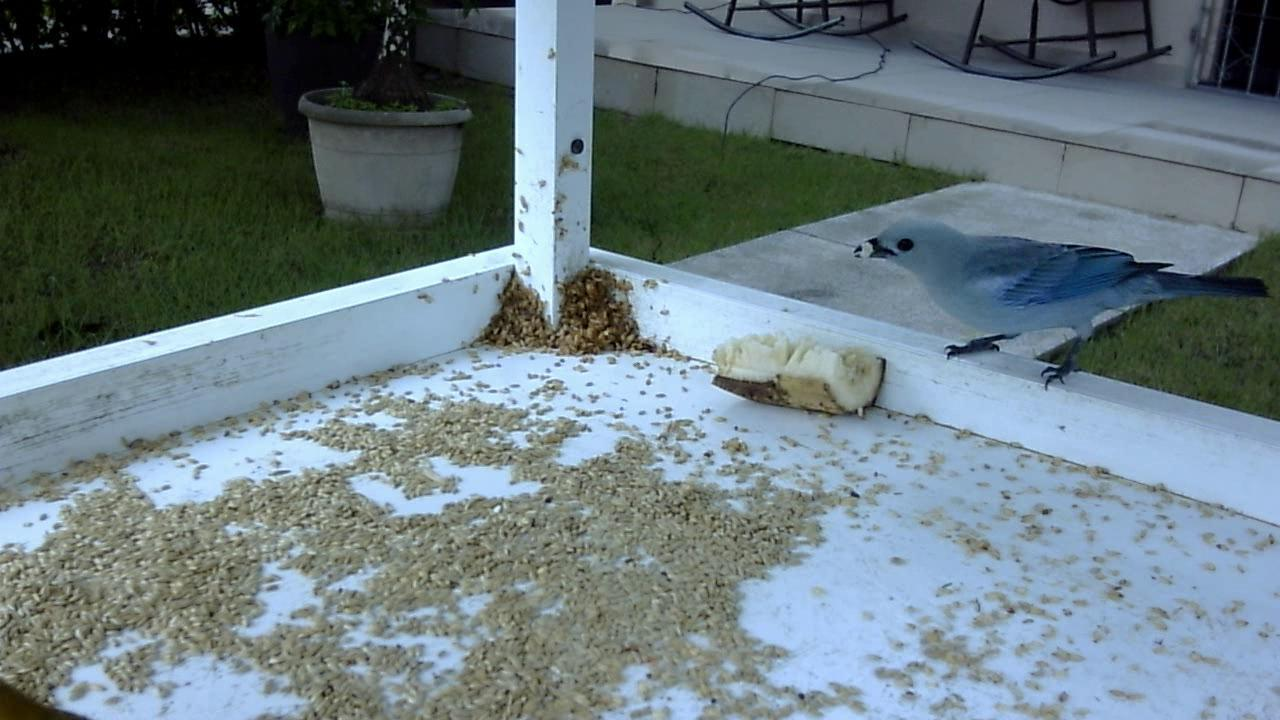sanhaco_da_amazonia: (841, 192, 1273, 403)
